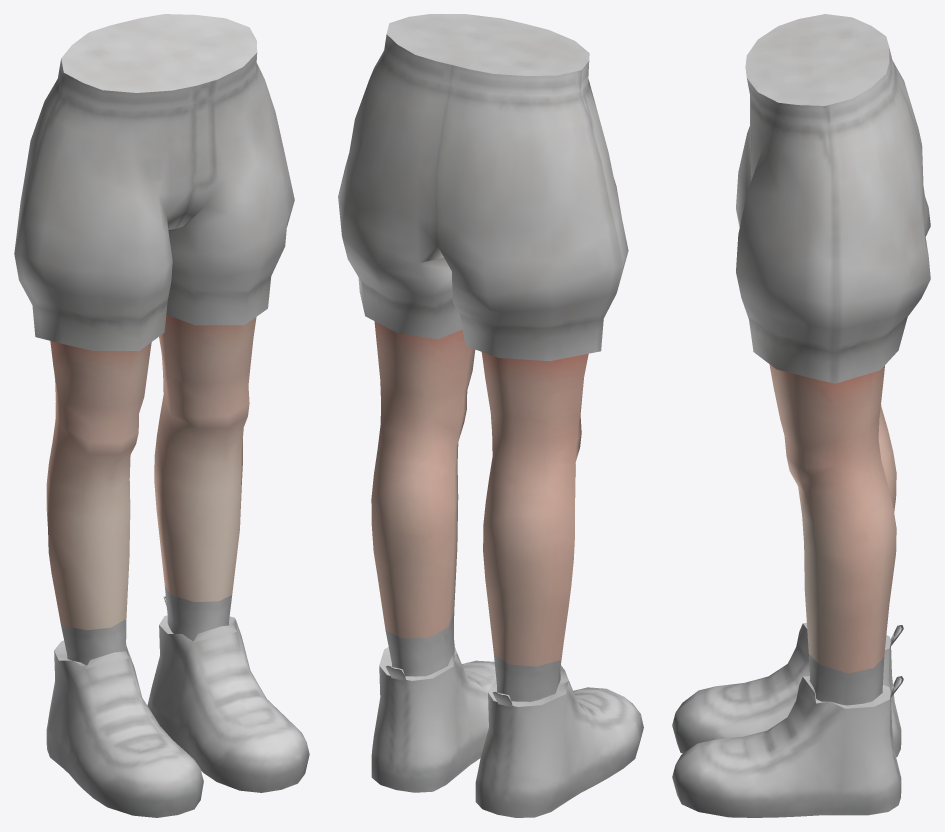
File: tr0730_00_lwb00.gltf
3 views of the same model, side by side, from view 1: azimuth 30°, elevation 25°; view 2: azimuth 150°, elevation 25°; view 3: azimuth 270°, elevation 25° (orthographic). The views are drawn at different scales.
Visible parts, largest first — view 1: lwb00_lowerbody_mesh_shape:lowerbody00, lwb00_lowerskin_mesh_shape:lowerbody00_skin, lwb00_shoes_mesh_shape:lowerbody00; view 2: lwb00_lowerbody_mesh_shape:lowerbody00, lwb00_lowerskin_mesh_shape:lowerbody00_skin, lwb00_shoes_mesh_shape:lowerbody00; view 3: lwb00_lowerbody_mesh_shape:lowerbody00, lwb00_shoes_mesh_shape:lowerbody00, lwb00_lowerskin_mesh_shape:lowerbody00_skin.
Part boxes in pixels (bbox=[...]): lwb00_lowerbody_mesh_shape:lowerbody00: bbox=[14, 14, 294, 665]; lwb00_lowerskin_mesh_shape:lowerbody00_skin: bbox=[46, 314, 256, 630]; lwb00_shoes_mesh_shape:lowerbody00: bbox=[46, 596, 309, 817]; lwb00_lowerbody_mesh_shape:lowerbody00: bbox=[338, 14, 628, 701]; lwb00_lowerskin_mesh_shape:lowerbody00_skin: bbox=[371, 321, 588, 666]; lwb00_shoes_mesh_shape:lowerbody00: bbox=[371, 647, 643, 817]; lwb00_lowerbody_mesh_shape:lowerbody00: bbox=[736, 14, 930, 705]; lwb00_shoes_mesh_shape:lowerbody00: bbox=[672, 623, 903, 817]; lwb00_lowerskin_mesh_shape:lowerbody00_skin: bbox=[769, 364, 896, 673].
Size of what is drawn, in the model's own units: 0.4048 by 0.9985 by 0.3259.
2 materials, 2 textured.
